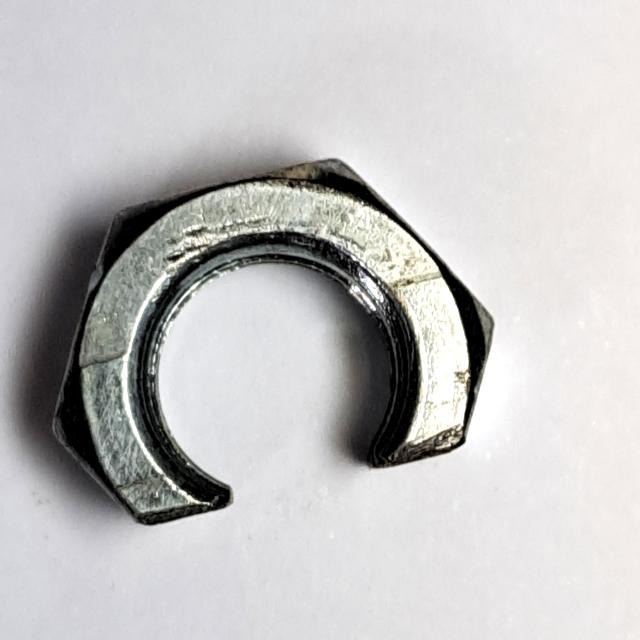Fracture: (36, 141, 513, 548)
